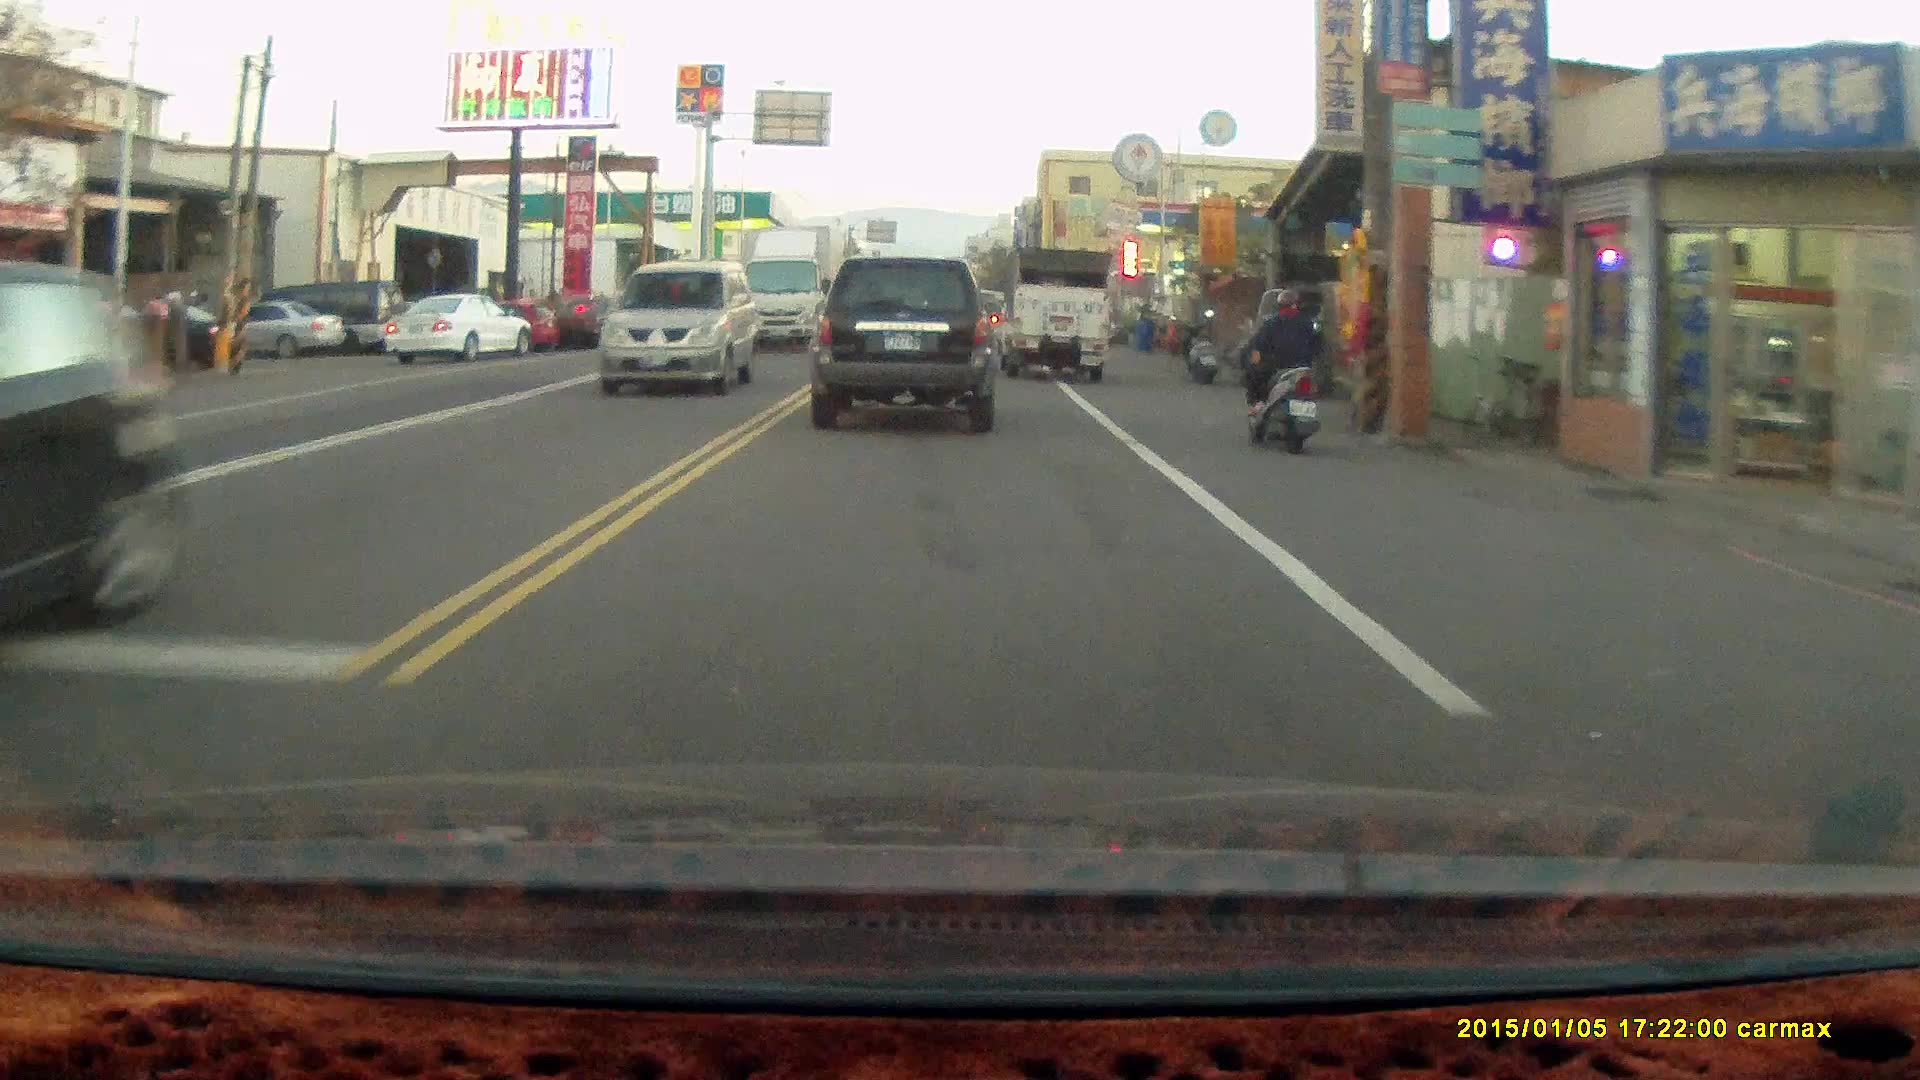rider: (1229, 287, 1323, 456)
vehicle: (1, 261, 188, 664), (807, 255, 998, 433), (597, 261, 758, 395), (994, 244, 1110, 382), (384, 296, 533, 363), (224, 303, 347, 361)
